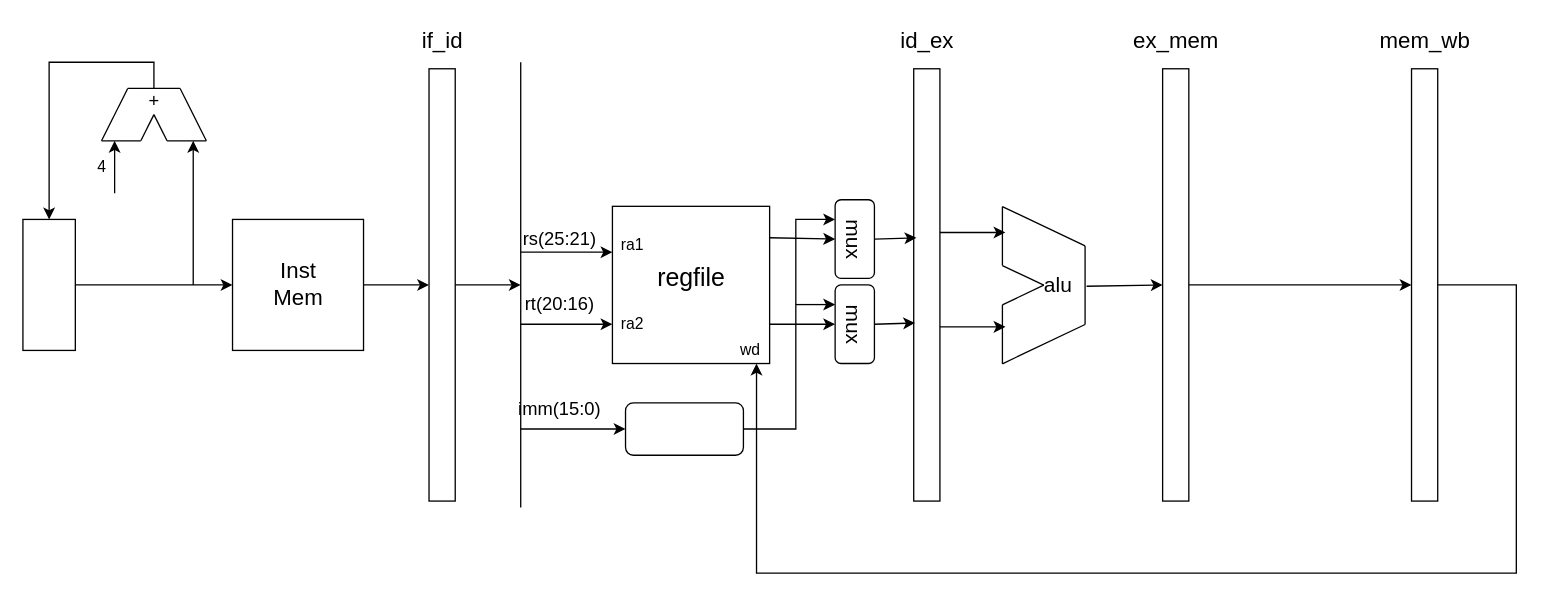
Image size: 1550x607. Some labels were removed from this diagram. The shapes that lost their labels are listed below. From the top down, each one's centre as x and y in pixels, then its label:
the point at 48,284: PC
the point at 683,428: sign extend
